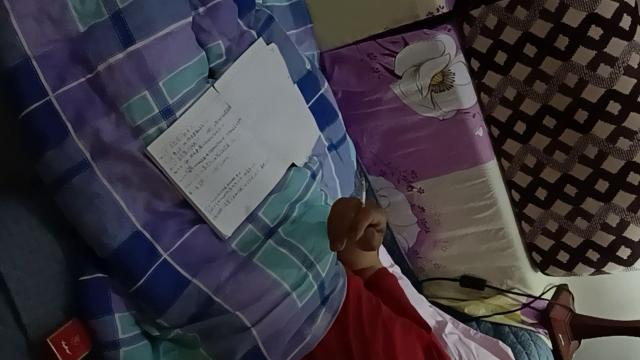Cigarette: (360, 177, 366, 213)
